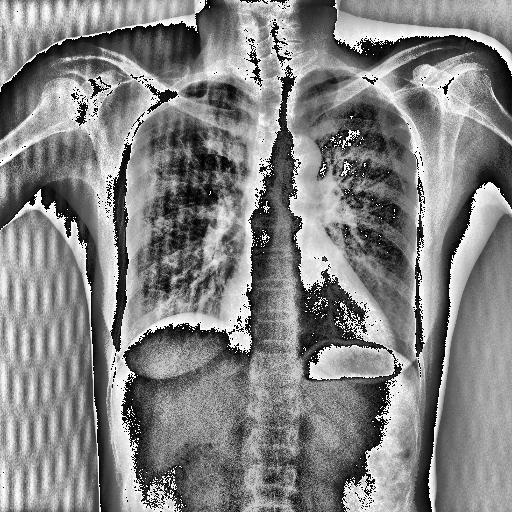13- Pulmonary fibrosis: (362, 116, 416, 150), (369, 122, 409, 156)
2- Calcification: (369, 122, 409, 156)
7- Lung Opacity: (151, 98, 213, 172)
8- Nodule-Mass: (375, 112, 417, 144)
